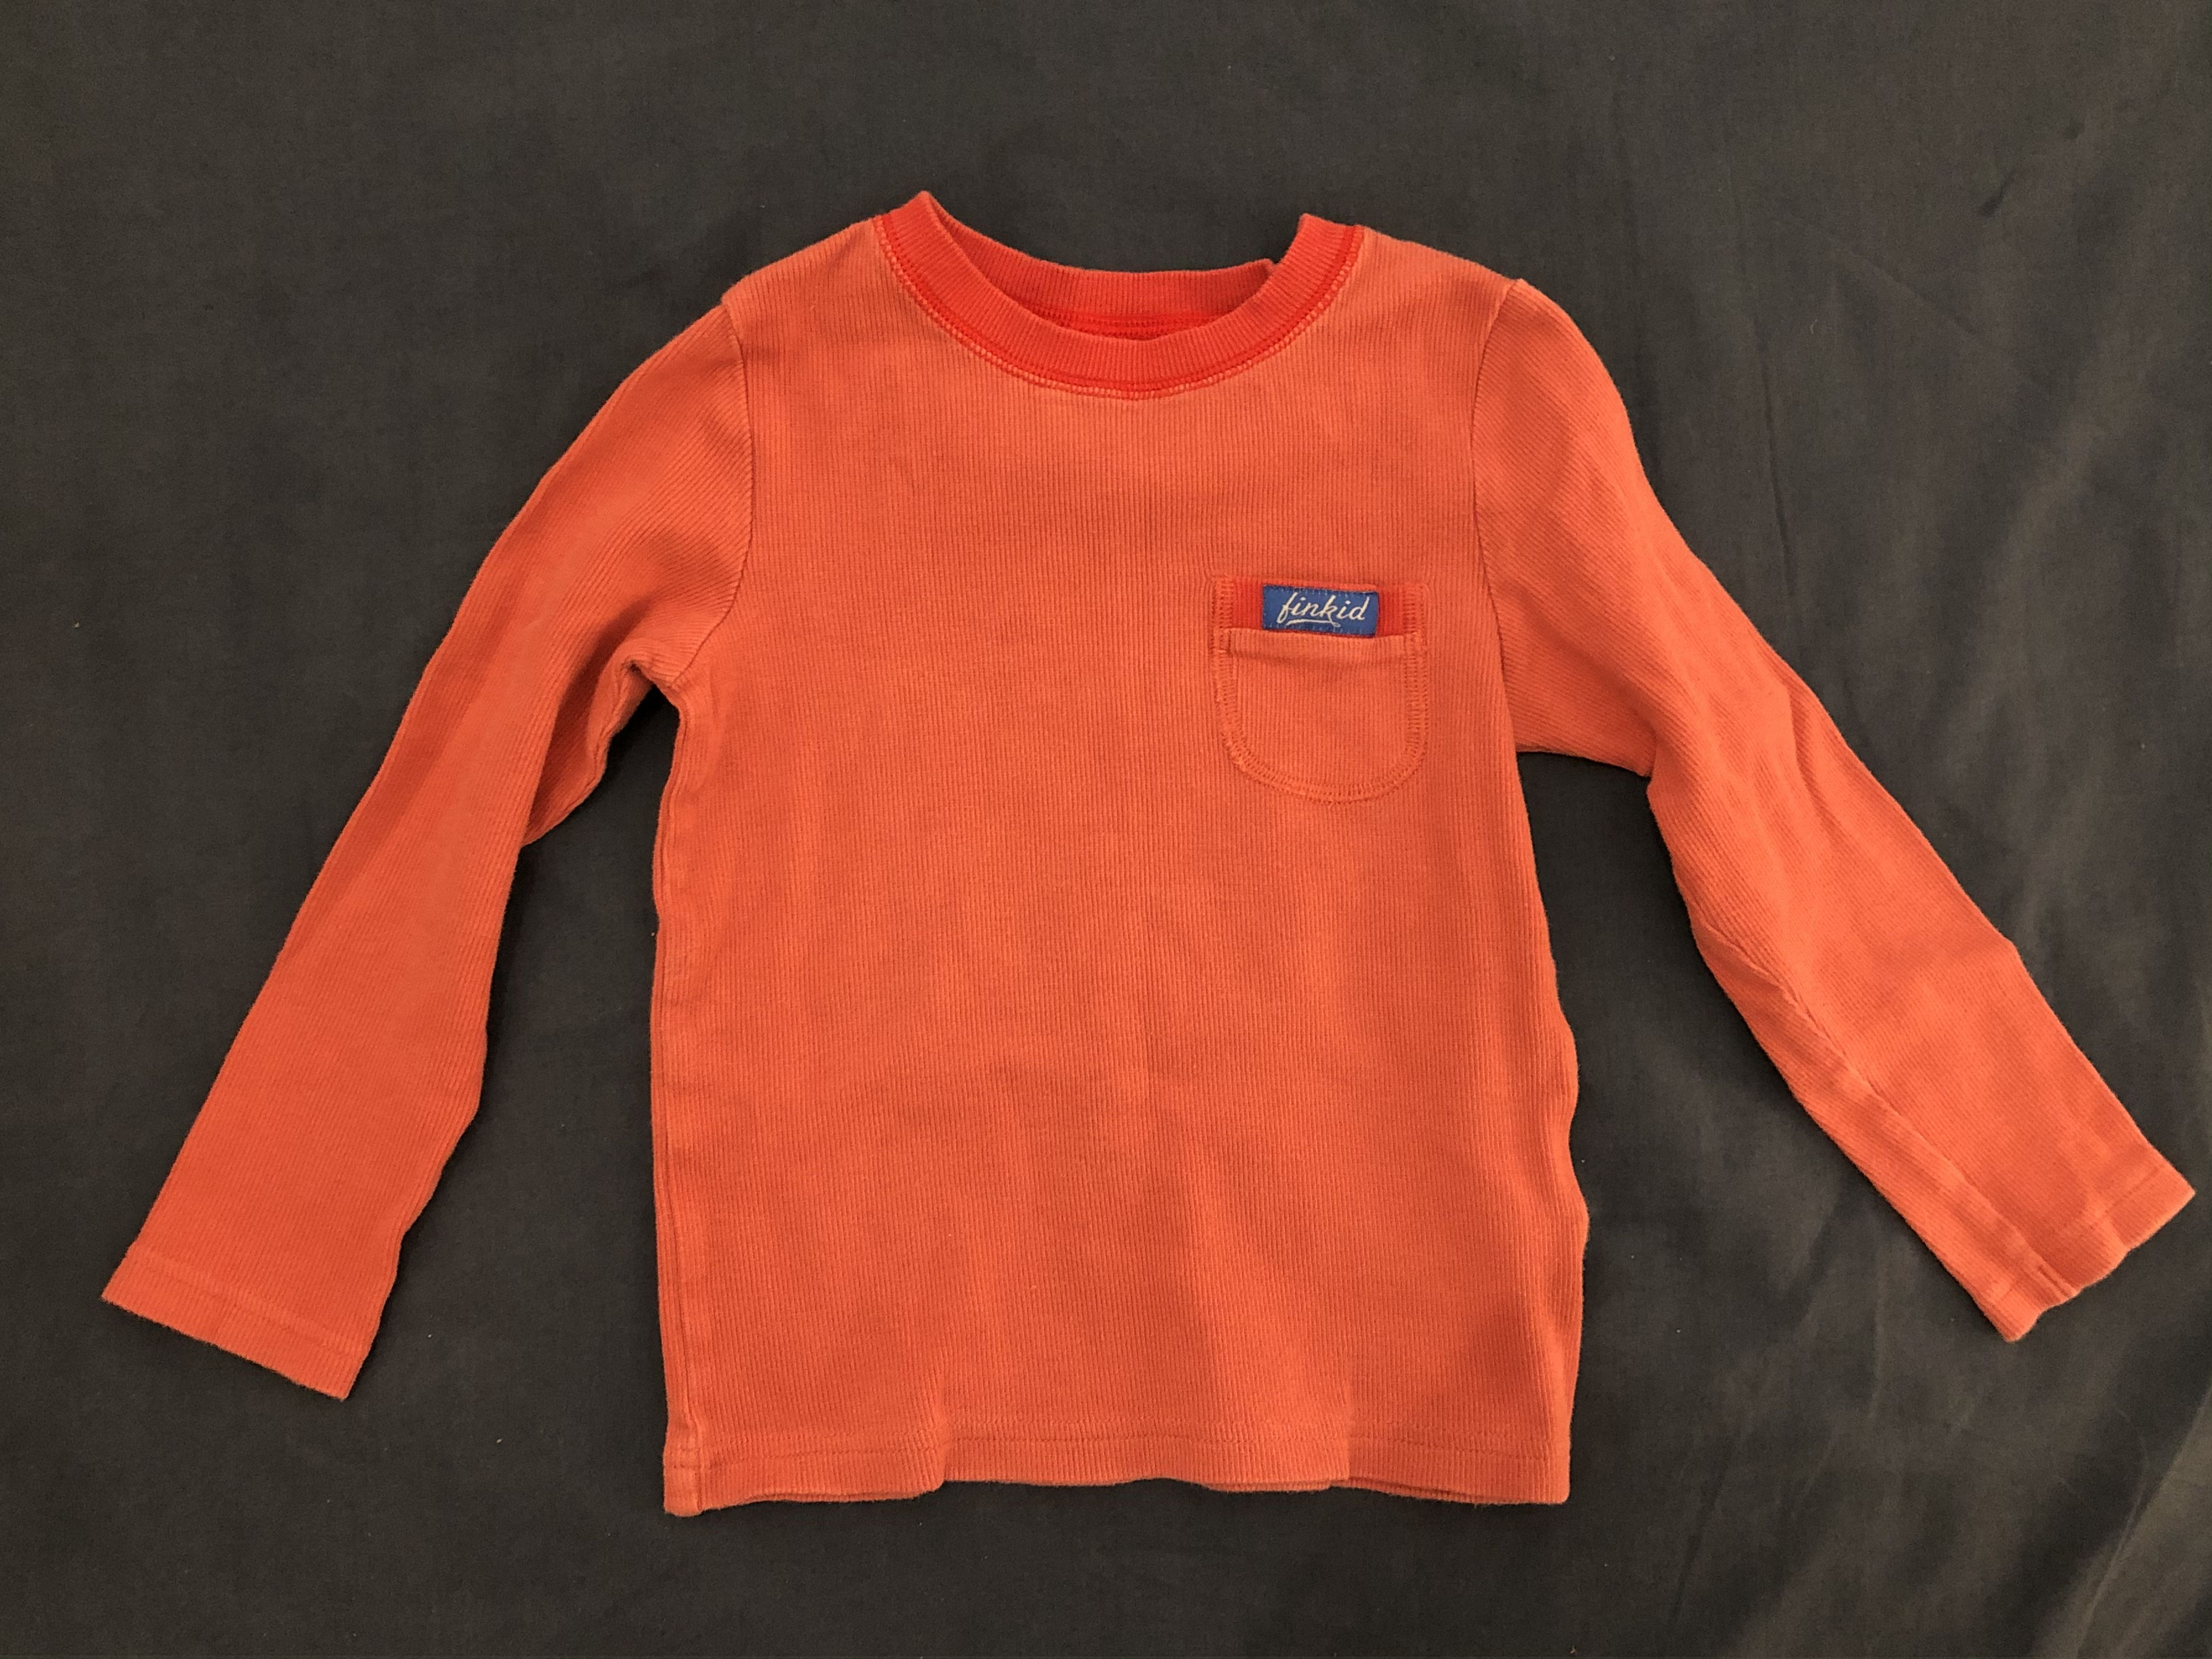clothes: (71, 185, 2182, 1513)
